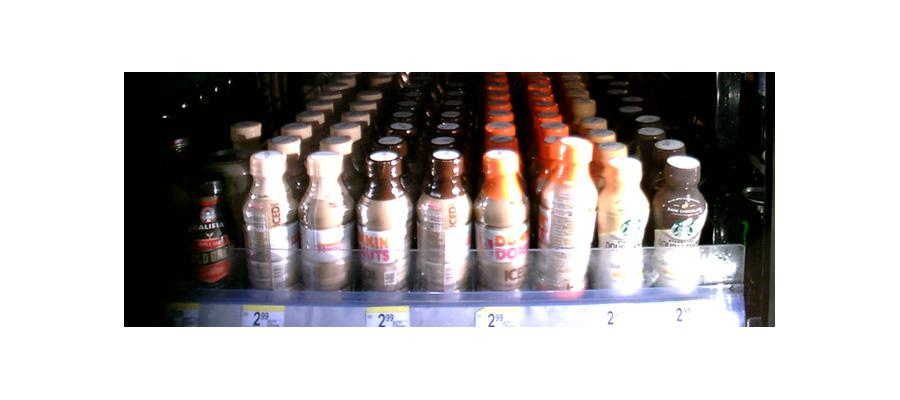bottle: (534, 127, 594, 296), (240, 146, 296, 293), (475, 139, 526, 296), (358, 145, 411, 294), (299, 148, 352, 296), (416, 150, 469, 297), (655, 147, 707, 294), (597, 147, 647, 294), (189, 162, 231, 290)
